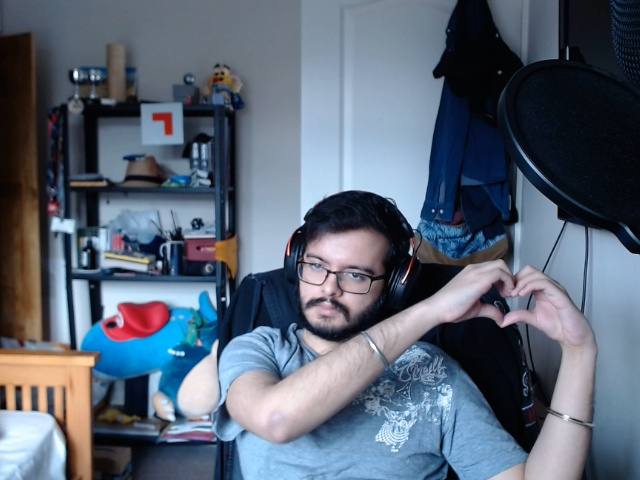Heart: (442, 255, 577, 353)
